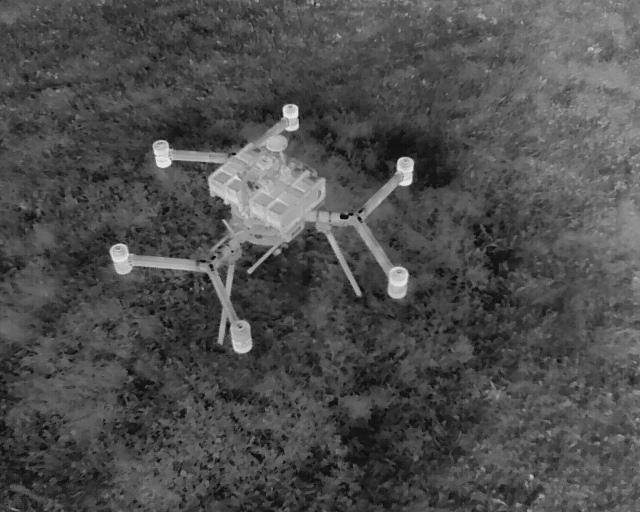drone: (54, 78, 453, 392)
